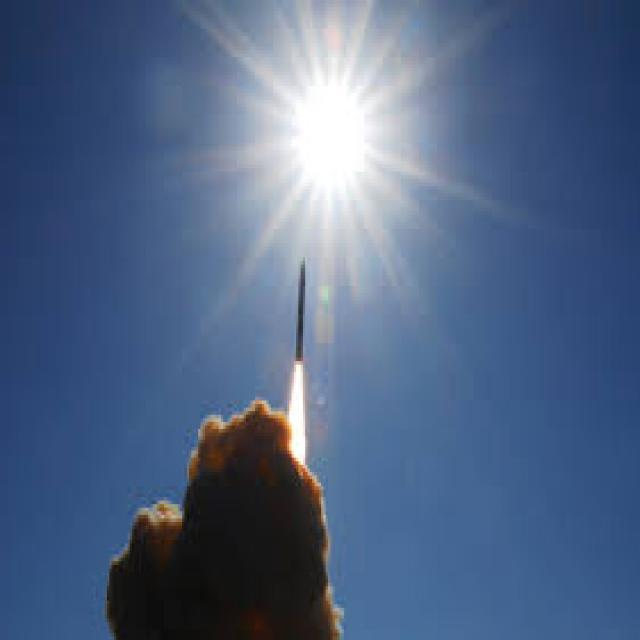missile: (292, 258, 310, 363)
